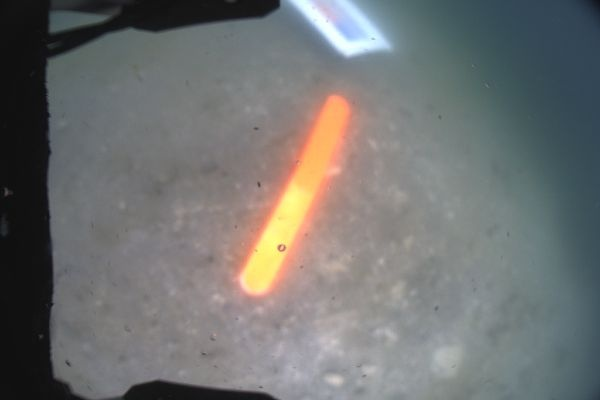bin: (290, 0, 392, 58)
bin_bleue: (336, 20, 366, 42)
bin_rouge: (316, 0, 346, 24)
path: (238, 94, 350, 296)
